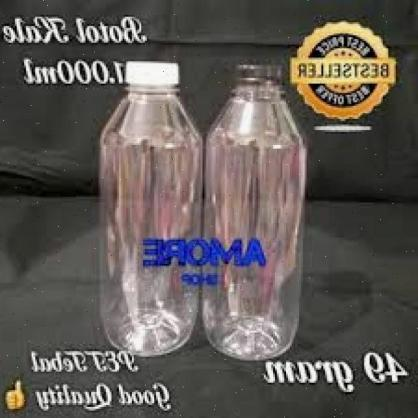bottle: (173, 60, 344, 370), (79, 48, 205, 363)
cap: (118, 57, 186, 93)
